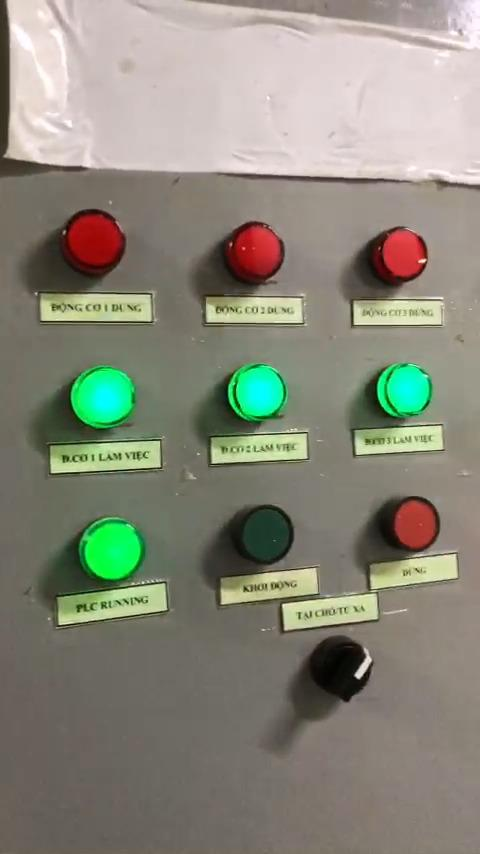led: (61, 365, 138, 434), (218, 218, 290, 284), (228, 501, 295, 569), (77, 515, 144, 582), (224, 360, 290, 427), (61, 209, 126, 275), (370, 356, 434, 421), (364, 221, 426, 288), (379, 495, 441, 555)
twist: (305, 634, 375, 701)
